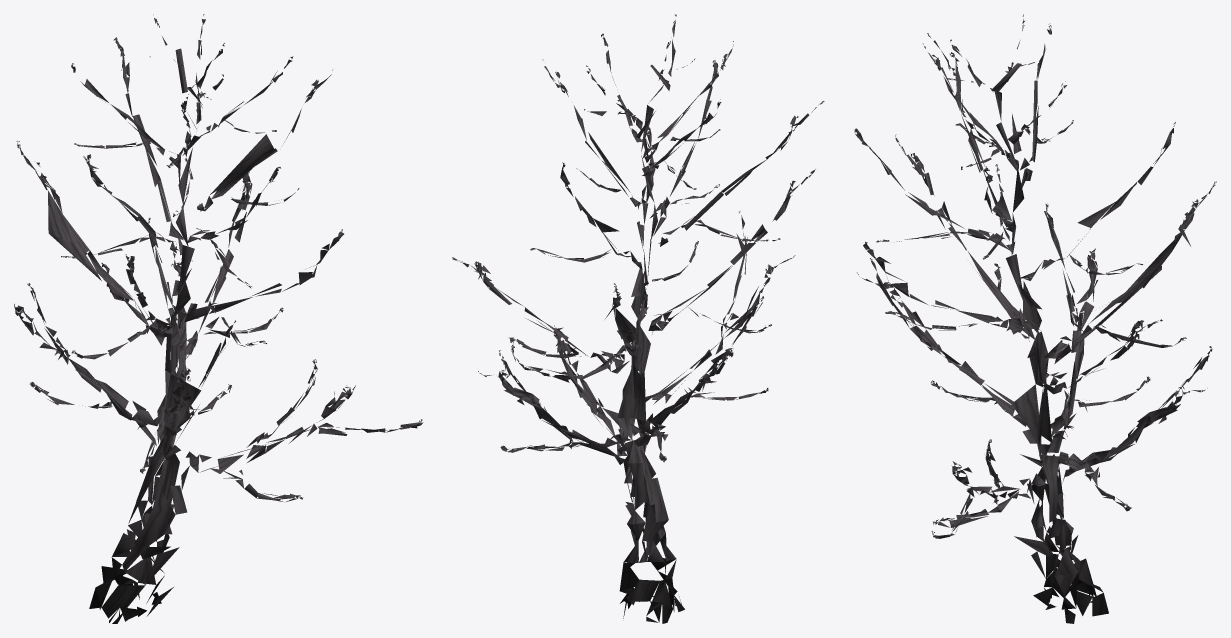
Rendered from DeadTree_2_lod1.glb.
3 renders of one model, left to right at view 1: azimuth 30°, elevation 25°; view 2: azimuth 150°, elevation 25°; view 3: azimuth 270°, elevation 25°, orthographic. The views are drawn at different scales.
Visible parts, largest first — view 1: DeadTree_2; view 2: DeadTree_2; view 3: DeadTree_2.
Boxes of the visible parts, bbox=[...] form: DeadTree_2: bbox=[14, 14, 423, 623]; DeadTree_2: bbox=[452, 14, 824, 623]; DeadTree_2: bbox=[854, 14, 1216, 623].
Bounding box in the file's own units: 6.73 × 11.55 × 6.37.
Materials: 1 (1 with a texture image).
